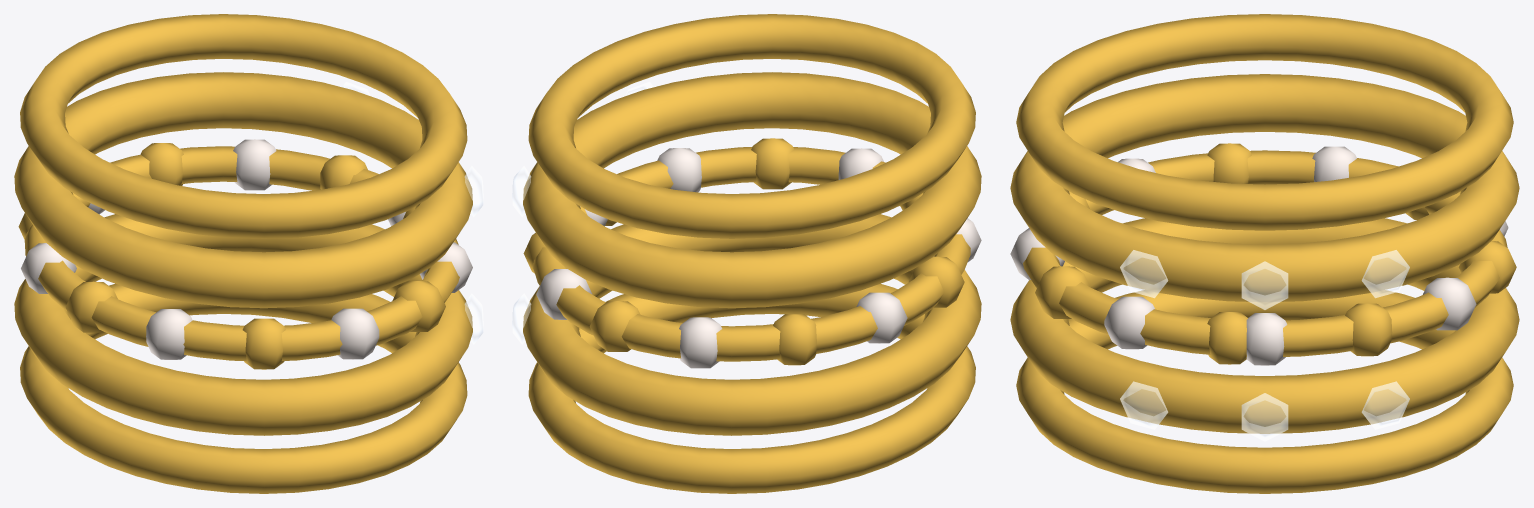
Rendered from bangle_stack.glb.
3 views of the same model, side by side, from view 1: azimuth 30°, elevation 25°; view 2: azimuth 150°, elevation 25°; view 3: azimuth 270°, elevation 25° (orthographic). The views are drawn at different scales.
Parts seen in each view (by area): view 1: bangle_stack; view 2: bangle_stack; view 3: bangle_stack.
Part boxes in pixels (box(x1,y1,x2,y2)): bangle_stack: box(14, 14, 483, 493); bangle_stack: box(512, 14, 981, 493); bangle_stack: box(1010, 14, 1519, 493).
Bounding box in the file's own units: 0.0487 × 0.0342 × 0.0526.
